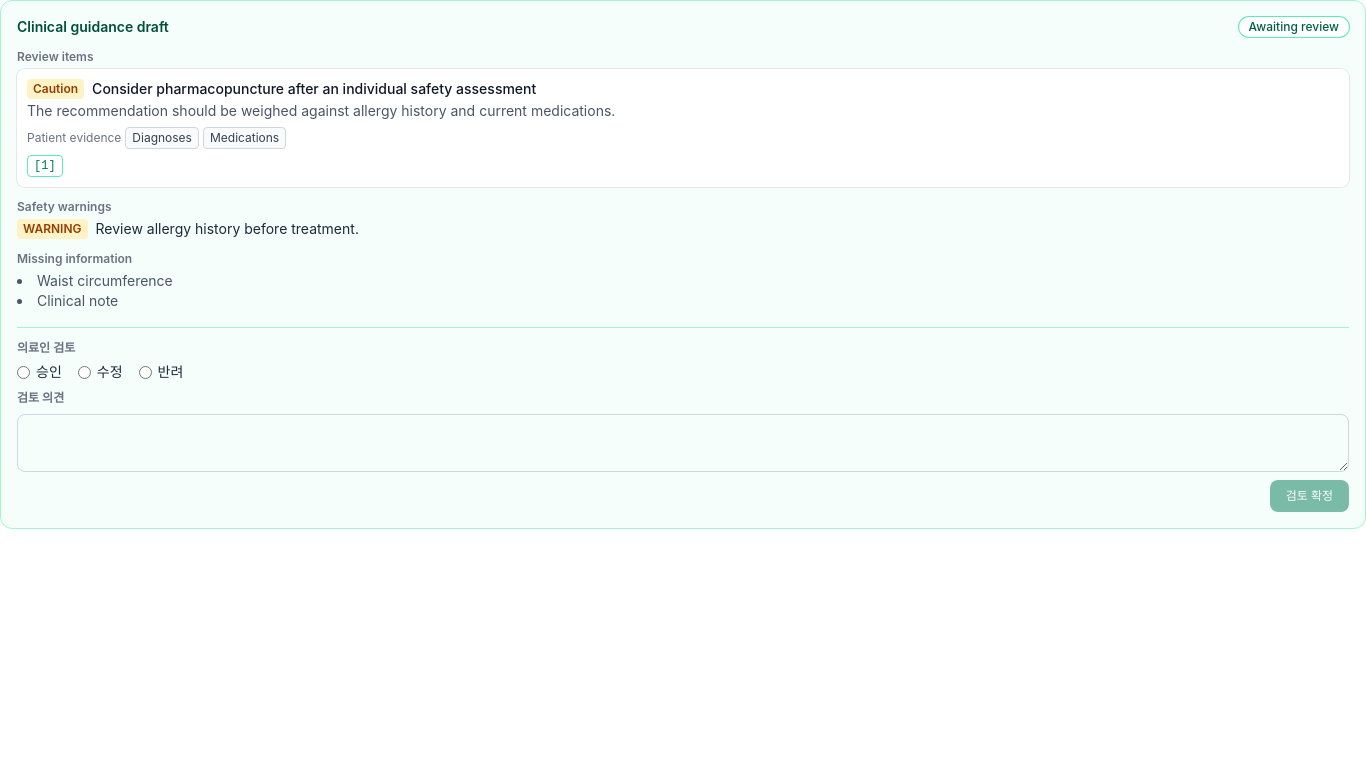
Test case: GuidanceCard 콘텐츠 언어 (spec 44) › 기준 31-b: en 참고안 인용의 펼침 헤더는 번역 섹션 경로를 쓰고 한국어 경로를 보이지 않는다
The image size is (1366, 768).
Click the button "[1]".
click(45, 166)  # box [27,155,63,177]
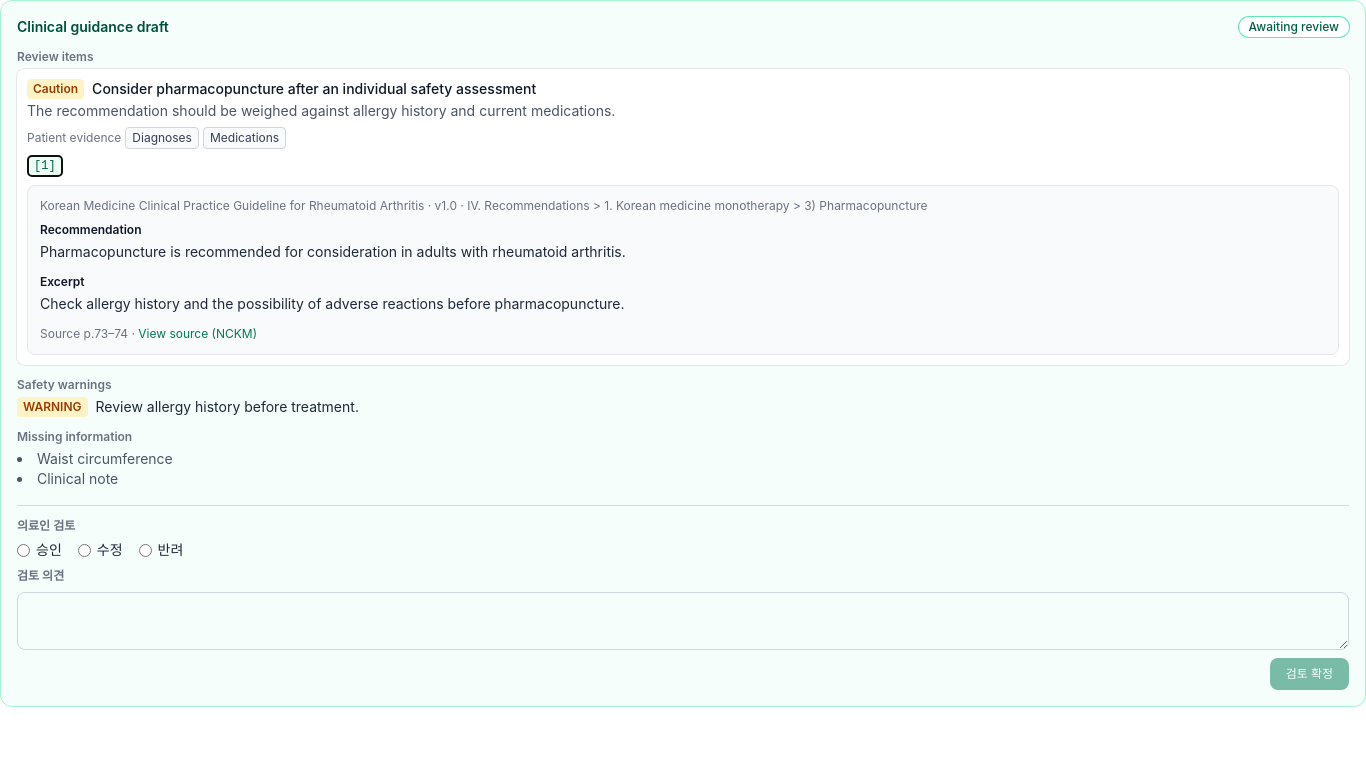
Expected: the text "Check allergy history and the possibility of adverse reactions before pharmacopuncture." is shown, [40,295,624,312]
Expected: the text "Korean Medicine Clinical Practice Guideline for Rheumatoid Arthritis" is shown, [40,198,424,213]
